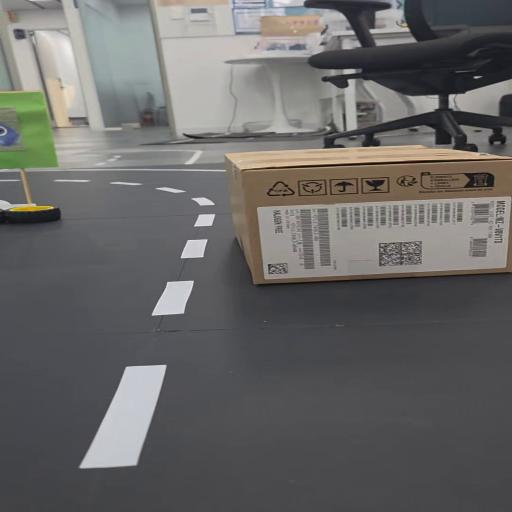Box: (223, 144, 512, 293)
